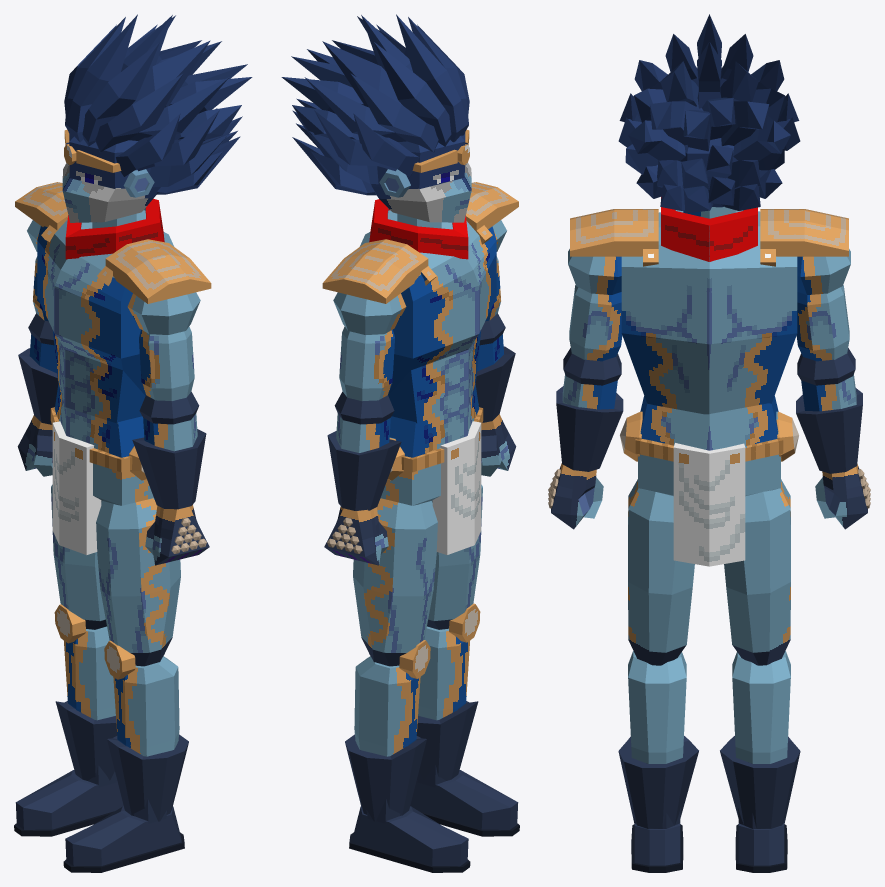
The model's file is StarB.glb.
3 views of the same model, side by side, from view 1: azimuth 30°, elevation 25°; view 2: azimuth 150°, elevation 25°; view 3: azimuth 270°, elevation 25° (orthographic). The views are drawn at different scales.
Parts seen in each view (by area): view 1: Cabeça, Torso, Perna Baixo E, Pélvis, Perna Cima E, Perna Baixo D, Braço Baixo E, Braço Cima E, Pé E, Pé D, Perna Cima D, Braço Baixo D (+4 smaller); view 2: Cabeça, Torso, Perna Baixo D, Pélvis, Perna Cima D, Perna Baixo E, Braço Baixo D, Braço Cima D, Pé D, Pé E, Perna Cima E, Braço Baixo E (+4 smaller); view 3: Torso, Cabeça, Pélvis, Perna Baixo E, Perna Baixo D, Perna Cima E, Perna Cima D, Braço Baixo D, Braço Baixo E, Braço Cima E, Braço Cima D, Pé E (+3 smaller).
Boxes of the visible parts, bbox=[...] form: Cabeça: bbox=[62, 14, 252, 222]; Torso: bbox=[15, 182, 211, 423]; Perna Baixo E: bbox=[104, 640, 188, 823]; Pélvis: bbox=[50, 383, 153, 554]; Perna Cima E: bbox=[96, 498, 180, 666]; Perna Baixo D: bbox=[54, 604, 117, 787]; Braço Baixo E: bbox=[132, 391, 206, 509]; Braço Cima E: bbox=[127, 292, 200, 400]; Pé E: bbox=[63, 806, 184, 872]; Pé D: bbox=[14, 770, 123, 836]; Perna Cima D: bbox=[51, 484, 106, 629]; Braço Baixo D: bbox=[18, 313, 58, 424]; Cabeça: bbox=[281, 14, 471, 222]; Torso: bbox=[322, 182, 518, 423]; Perna Baixo D: bbox=[345, 640, 430, 823]; Pélvis: bbox=[380, 383, 483, 554]; Perna Cima D: bbox=[353, 498, 437, 666]; Perna Baixo E: bbox=[416, 603, 480, 787]; Braço Baixo D: bbox=[327, 391, 401, 510]; Braço Cima D: bbox=[333, 292, 406, 400]; Pé D: bbox=[349, 806, 470, 872]; Pé E: bbox=[410, 770, 519, 836]; Perna Cima E: bbox=[427, 484, 482, 629]; Braço Baixo E: bbox=[475, 313, 515, 422]; Torso: bbox=[570, 197, 848, 414]; Cabeça: bbox=[618, 14, 800, 213]; Pélvis: bbox=[620, 396, 798, 566]; Perna Baixo E: bbox=[618, 651, 698, 828]; Perna Baixo D: bbox=[720, 651, 800, 828]; Perna Cima E: bbox=[628, 479, 694, 665]; Perna Cima D: bbox=[724, 479, 790, 665]; Braço Baixo D: bbox=[796, 348, 862, 473]; Braço Baixo E: bbox=[556, 348, 623, 471]; Braço Cima E: bbox=[568, 249, 622, 361]; Braço Cima D: bbox=[796, 249, 850, 361]; Pé E: bbox=[631, 823, 683, 872].
Bounding box in the file's own units: 2.82 × 11.22 × 3.84.
Materials: 7 (7 with a texture image).
